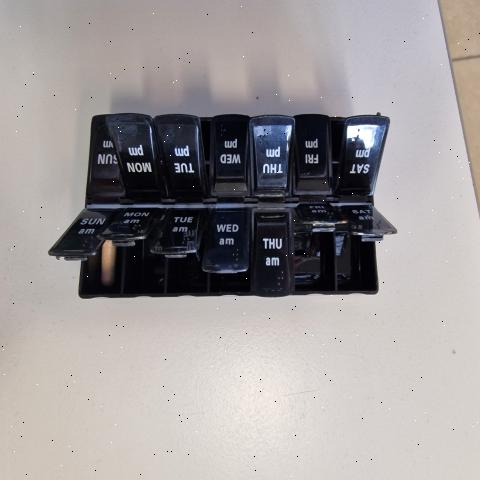Open: (49, 214, 123, 300), (295, 209, 347, 293), (121, 209, 165, 297), (340, 228, 396, 296), (168, 221, 210, 294), (210, 241, 257, 295), (200, 120, 209, 184)
